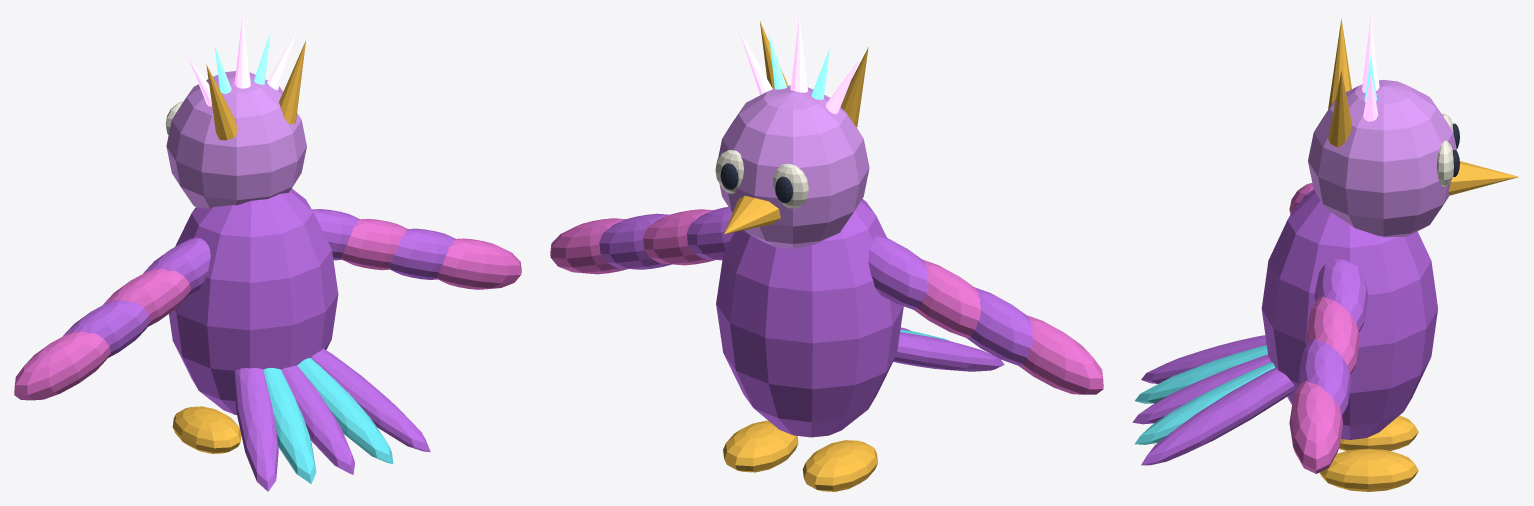
File: Guardian_7.fbx
3 views of the same model, side by side, from view 1: azimuth 30°, elevation 25°; view 2: azimuth 150°, elevation 25°; view 3: azimuth 270°, elevation 25° (orthographic). The views are drawn at different scales.
Visible parts, largest first — view 1: Body.013, Head.013, WingL.013, TailFeather.005, WingR.013, TailFeather.009, TailFeather.008, TailFeather.006, TailFeather.007, WingL.011, WingL.012, Foot.022 (+7 smaller); view 2: Body.013, Head.013, WingL.013, WingL.010, WingL.011, WingL.012, Foot.022, TailFeather.005, Foot.023, WingR.013, WingR.011, WingR.012 (+6 smaller); view 3: Body.013, Head.013, TailFeather.009, WingR.013, Foot.023, WingR.011, WingR.012, WingR.010, TailFeather.008, TailFeather.007, TailFeather.006, TailFeather.005 (+7 smaller).
Boxes of the visible parts, x1,y1,x2,y2 form: Body.013: [169, 188, 338, 414]; Head.013: [166, 71, 306, 208]; WingL.013: [14, 331, 110, 400]; TailFeather.005: [233, 368, 278, 491]; WingR.013: [437, 238, 521, 289]; TailFeather.009: [311, 348, 430, 452]; TailFeather.008: [297, 358, 393, 464]; TailFeather.006: [263, 367, 316, 483]; TailFeather.007: [281, 365, 354, 474]; WingL.011: [103, 269, 190, 326]; WingL.012: [63, 300, 150, 357]; Foot.022: [172, 406, 241, 453]; Body.013: [716, 199, 903, 437]; Head.013: [718, 85, 869, 248]; WingL.013: [1019, 315, 1103, 394]; WingL.010: [868, 235, 928, 310]; WingL.011: [914, 259, 980, 338]; WingL.012: [966, 287, 1032, 366]; Foot.022: [802, 440, 877, 491]; TailFeather.005: [893, 332, 1004, 371]; Foot.023: [723, 420, 798, 472]; WingR.013: [550, 218, 627, 274]; WingR.011: [643, 209, 715, 265]; WingR.012: [599, 213, 671, 269]; Body.013: [1261, 191, 1437, 439]; Head.013: [1308, 80, 1457, 237]; TailFeather.009: [1141, 367, 1295, 465]; WingR.013: [1289, 380, 1342, 473]; Foot.023: [1319, 448, 1418, 491]; WingR.011: [1306, 296, 1359, 374]; WingR.012: [1298, 338, 1351, 416]; WingR.010: [1314, 259, 1368, 332]; TailFeather.008: [1135, 362, 1275, 444]; TailFeather.007: [1132, 354, 1270, 424]; TailFeather.006: [1135, 345, 1267, 403]; TailFeather.005: [1141, 335, 1266, 383].
Bounding box in the file's own units: 1501 × 1192 × 922.
